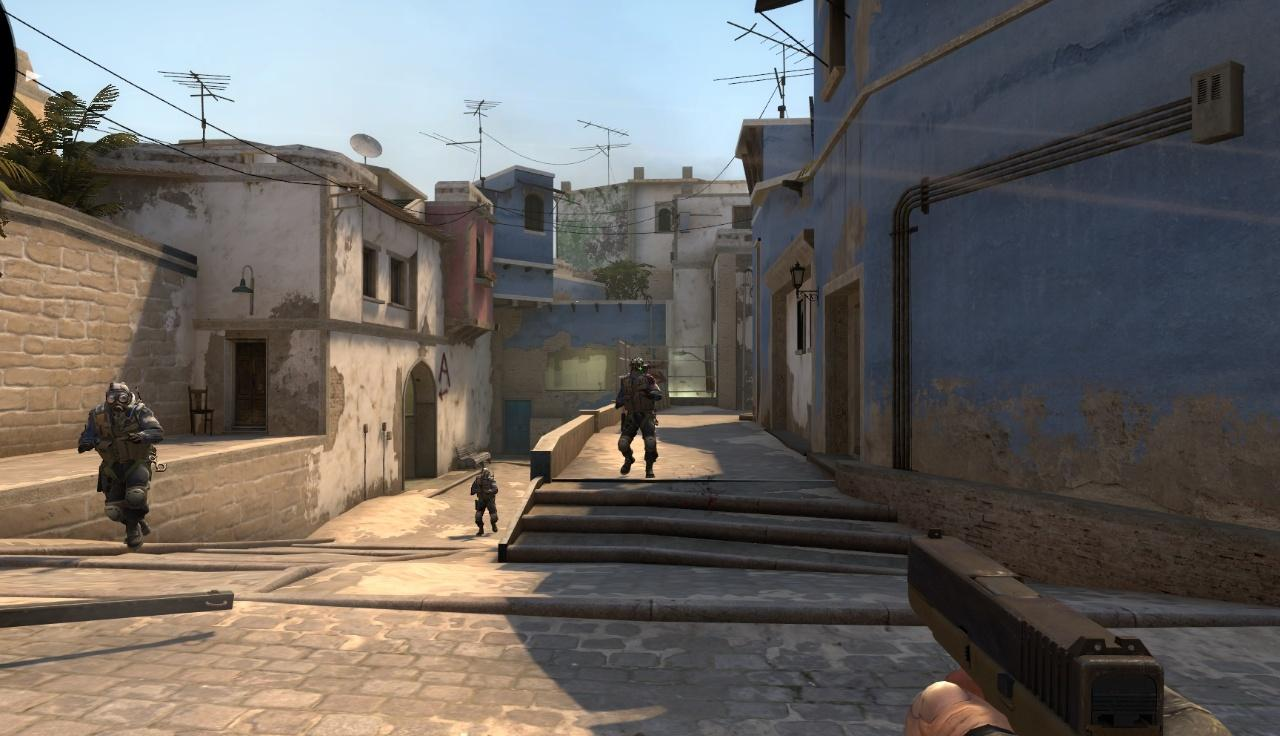ct: (77, 382, 164, 550), (615, 357, 663, 478), (471, 467, 499, 536)
cthead: (105, 382, 133, 415), (628, 357, 647, 376), (481, 468, 490, 479)
pistol: (905, 530, 1165, 736)
